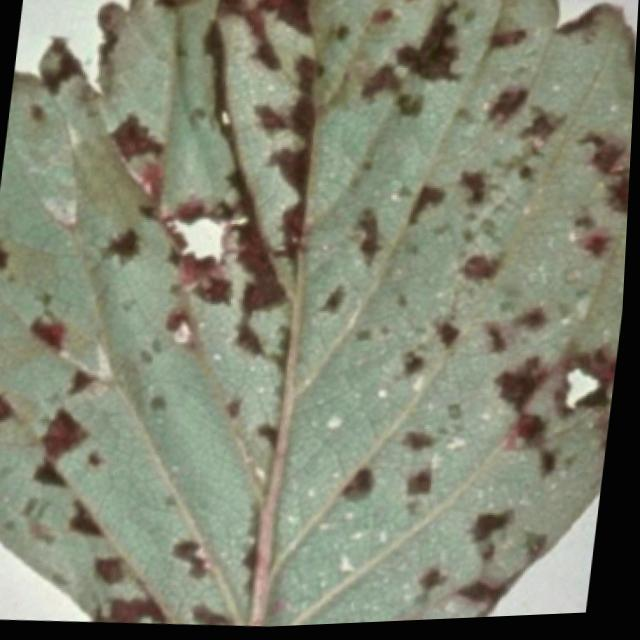Angular Leafspot: (0, 0, 637, 629)
